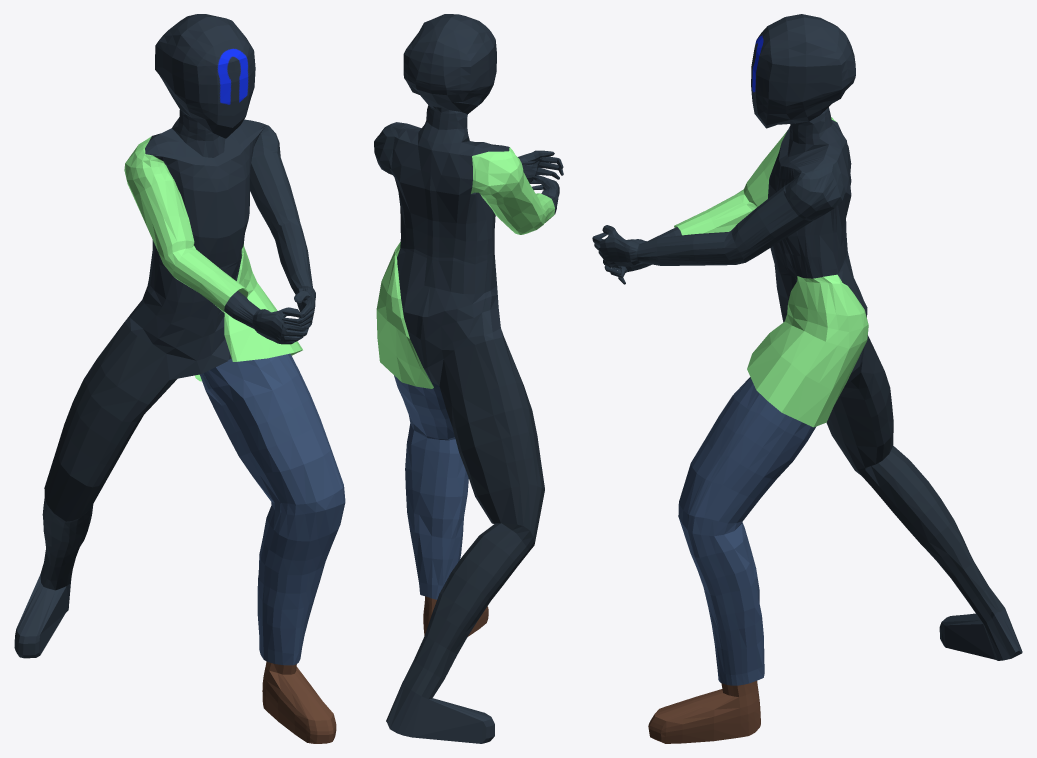
The model's file is Mar_WR_000005.obj.
3 renders of one model, left to right at view 1: azimuth 30°, elevation 25°; view 2: azimuth 150°, elevation 25°; view 3: azimuth 270°, elevation 25°, orthographic. The views are drawn at different scales.
Visible parts, largest first — view 1: Cube.000_Cube.001; view 2: Cube.000_Cube.001; view 3: Cube.000_Cube.001.
Boxes of the visible parts, x1,y1,x2,y2 form: Cube.000_Cube.001: [14, 14, 345, 743]; Cube.000_Cube.001: [374, 14, 563, 743]; Cube.000_Cube.001: [592, 14, 1022, 743].
Size of the model in its own units: 1.19 by 3.73 by 2.09.
